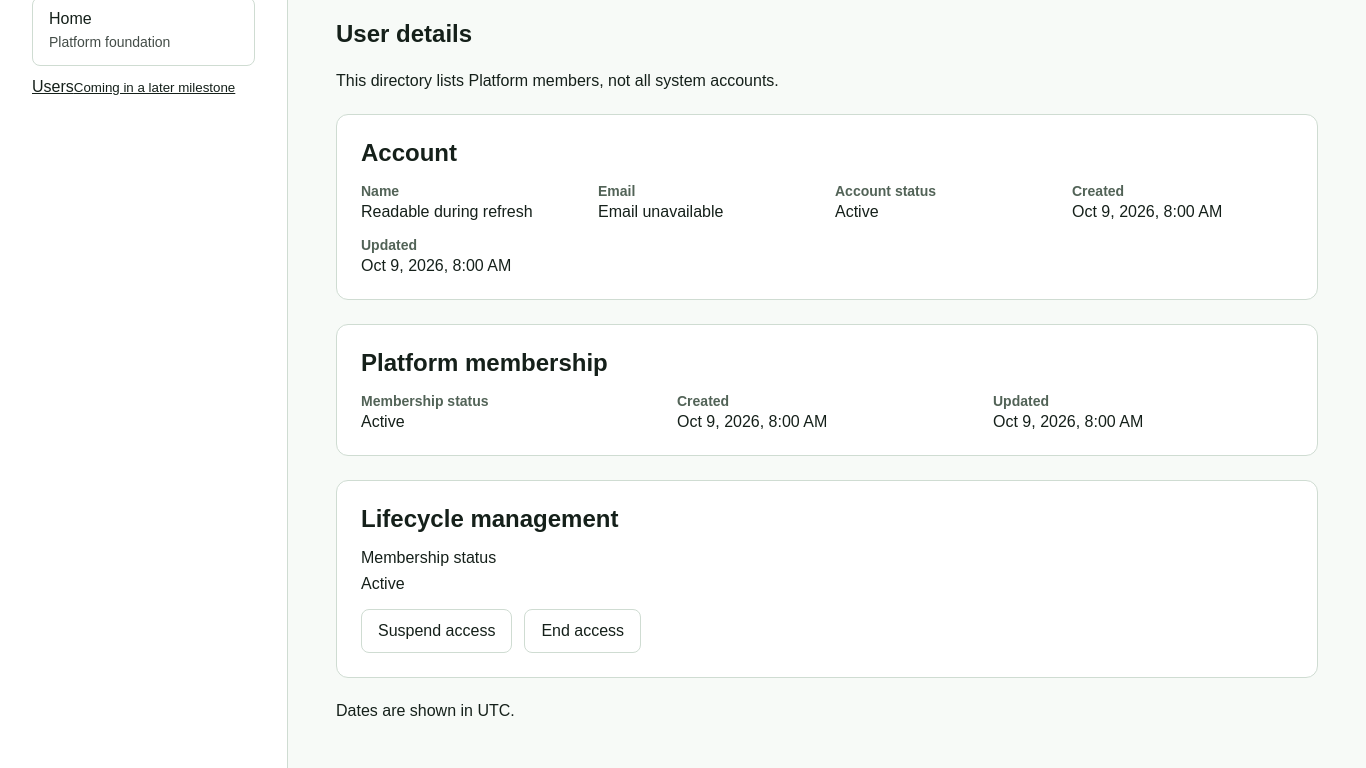
Scenario: Platform shell › management 403 refresh preserves READ while authority rediscovery is pending
(page scrolled)
Click the button "Suspend access" at point(437, 631), box [361,609,512,653]
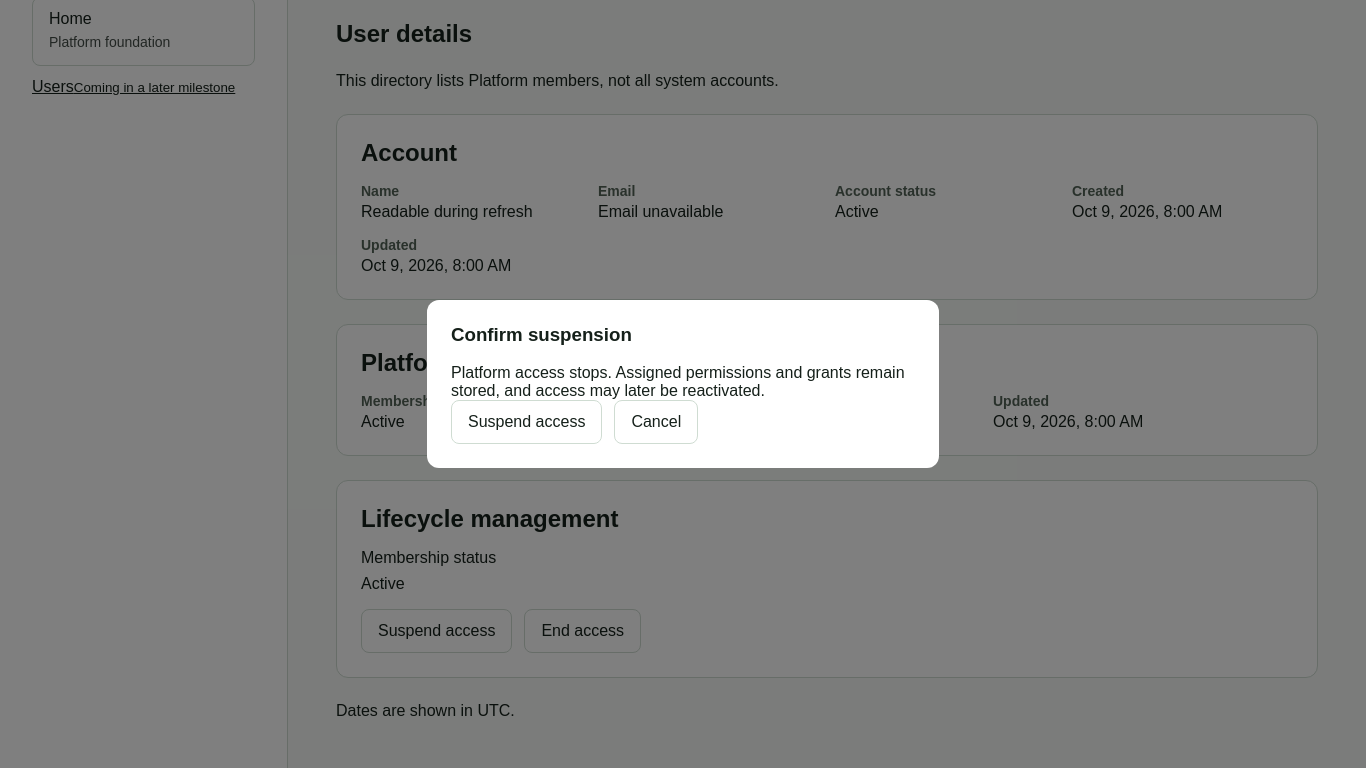
Click the button "Suspend access" at point(527, 422), box [451,400,602,444]
(page scrolled)
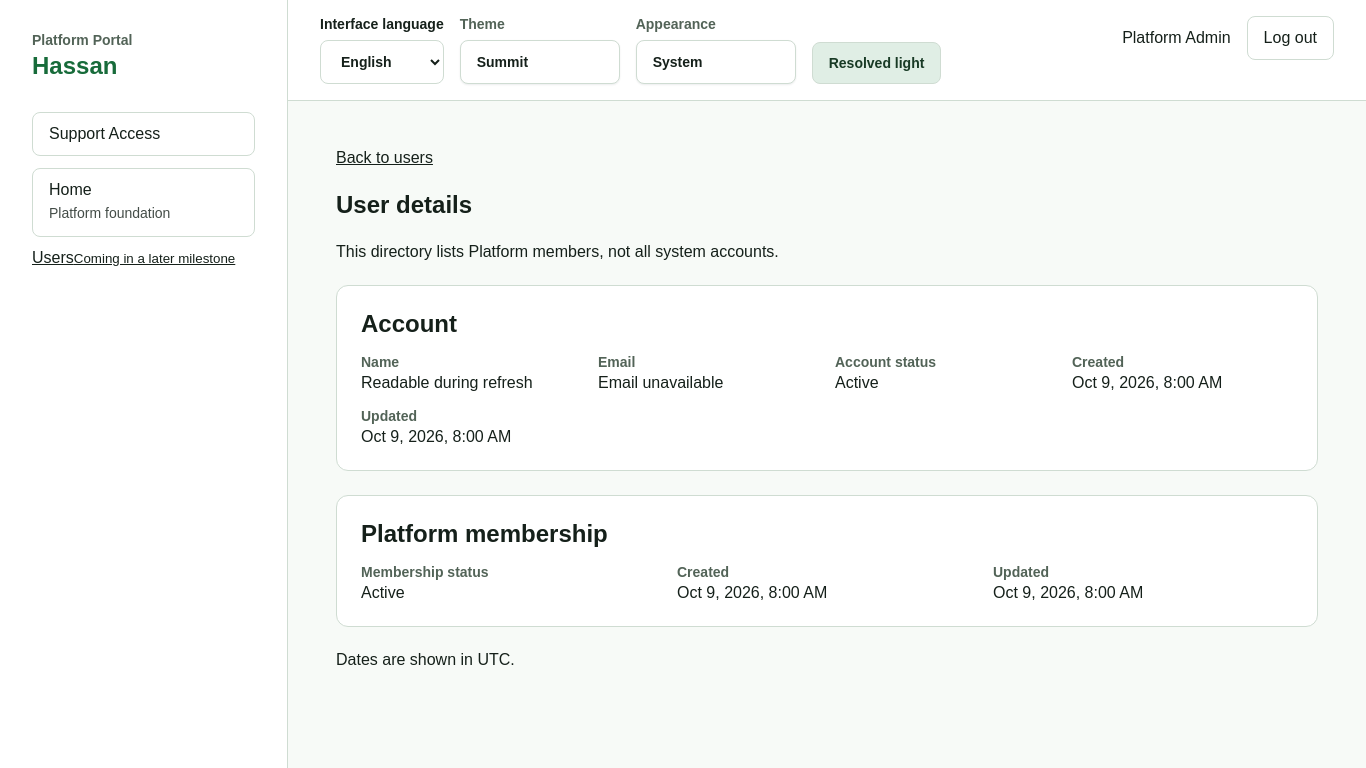
expect the text "Readable during refresh" is shown: met, box [361,374,533,391]
expect the heading "Lifecycle management" is gone: met
